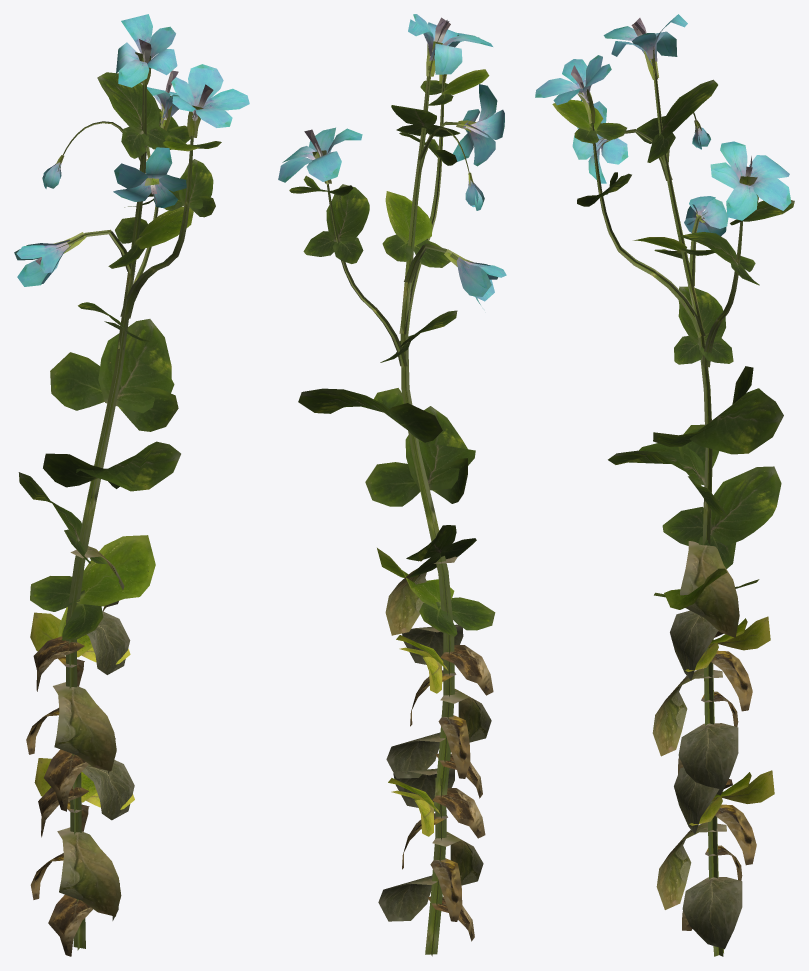
The model's file is Periwinkle_bush_short_cyan.glb.
The picture shows the model from 3 angles, left to right: view 1: azimuth 30°, elevation 25°; view 2: azimuth 150°, elevation 25°; view 3: azimuth 270°, elevation 25°; orthographic projection. The views are drawn at different scales.
Visible parts, largest first — view 1: _419c_Var3_LOD1.2; view 2: _419c_Var3_LOD1.2; view 3: _419c_Var3_LOD1.2.
Part boxes in pixels (x1,y1,x2,y2): _419c_Var3_LOD1.2: [14, 14, 249, 956]; _419c_Var3_LOD1.2: [278, 14, 506, 956]; _419c_Var3_LOD1.2: [535, 14, 794, 956].
Bounding box in the file's own units: 0.6129 × 2.59 × 0.6394.
Materials: 1 (1 with a texture image).
